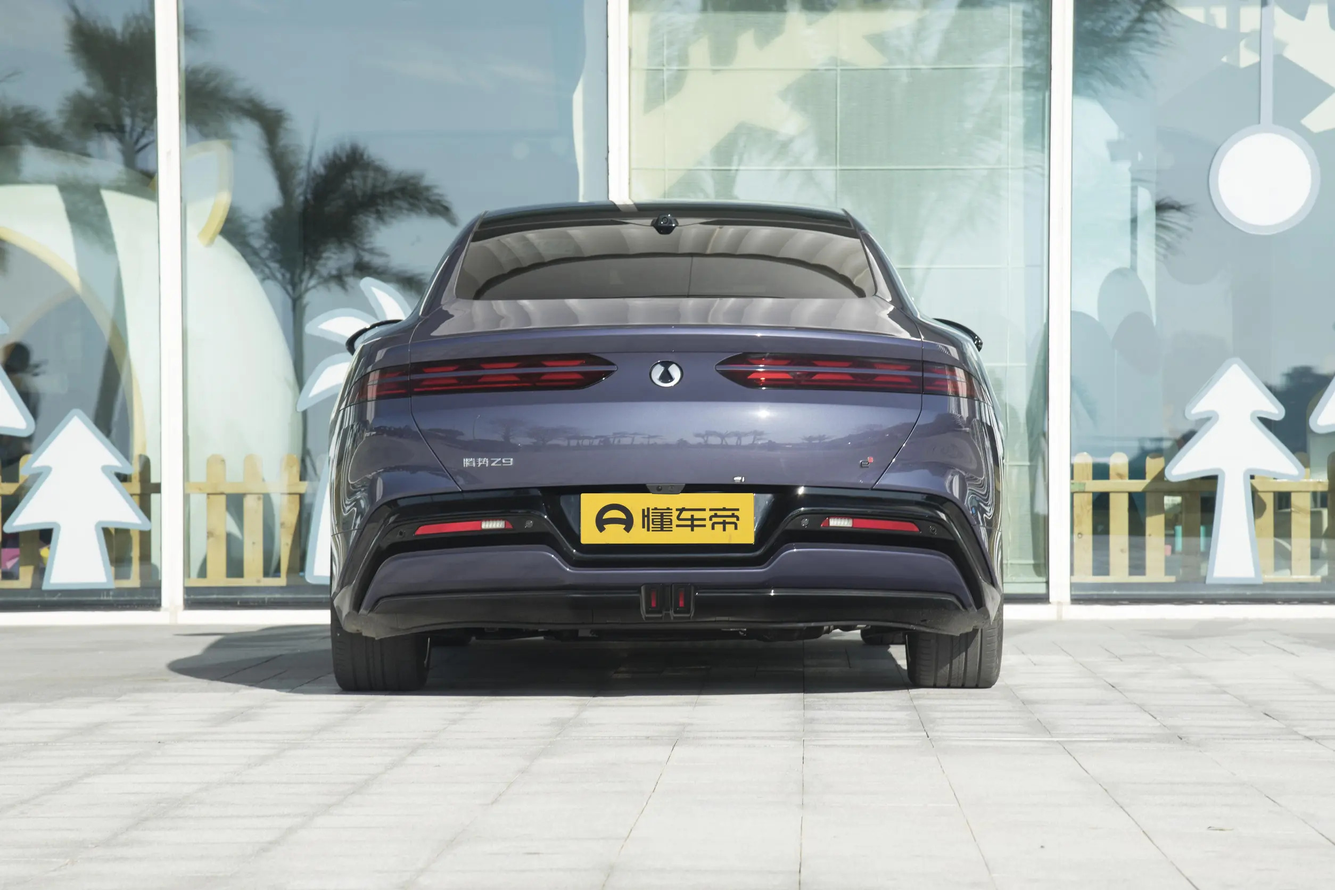DENZA: (652, 364, 680, 386)
